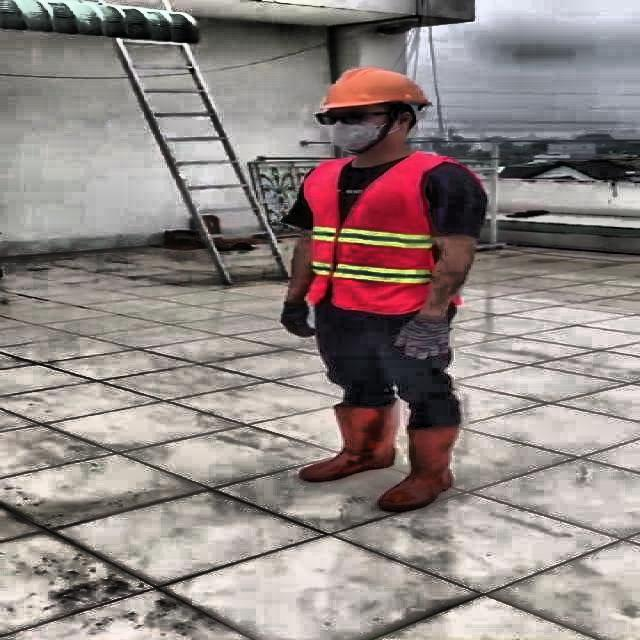safety_helmet: (318, 64, 436, 114)
safety_jacket: (302, 156, 473, 312)
